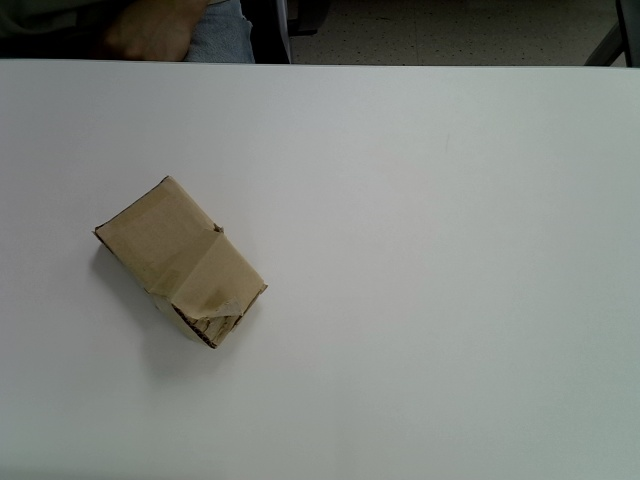defect: (149, 230, 268, 350)
normal: (93, 174, 224, 297)
